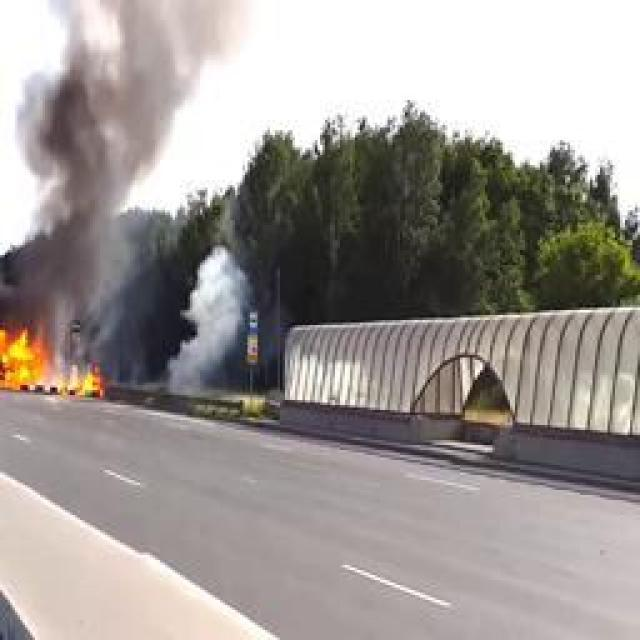Fire: (0, 322, 102, 397)
